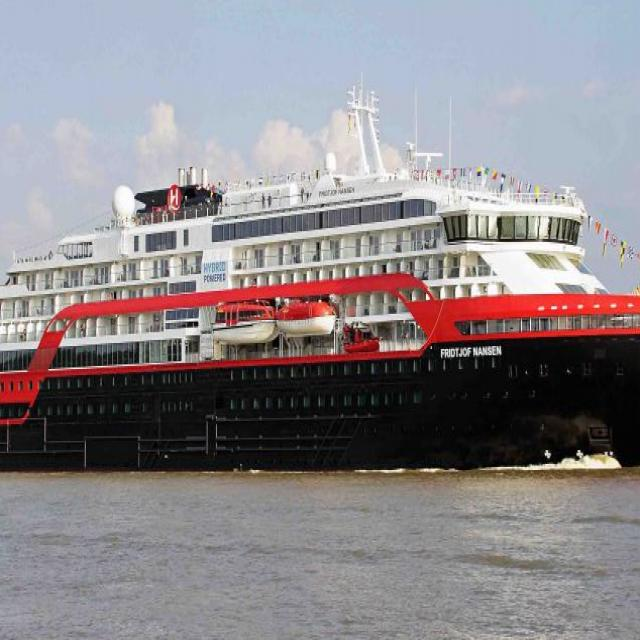cruises: (1, 84, 640, 485)
